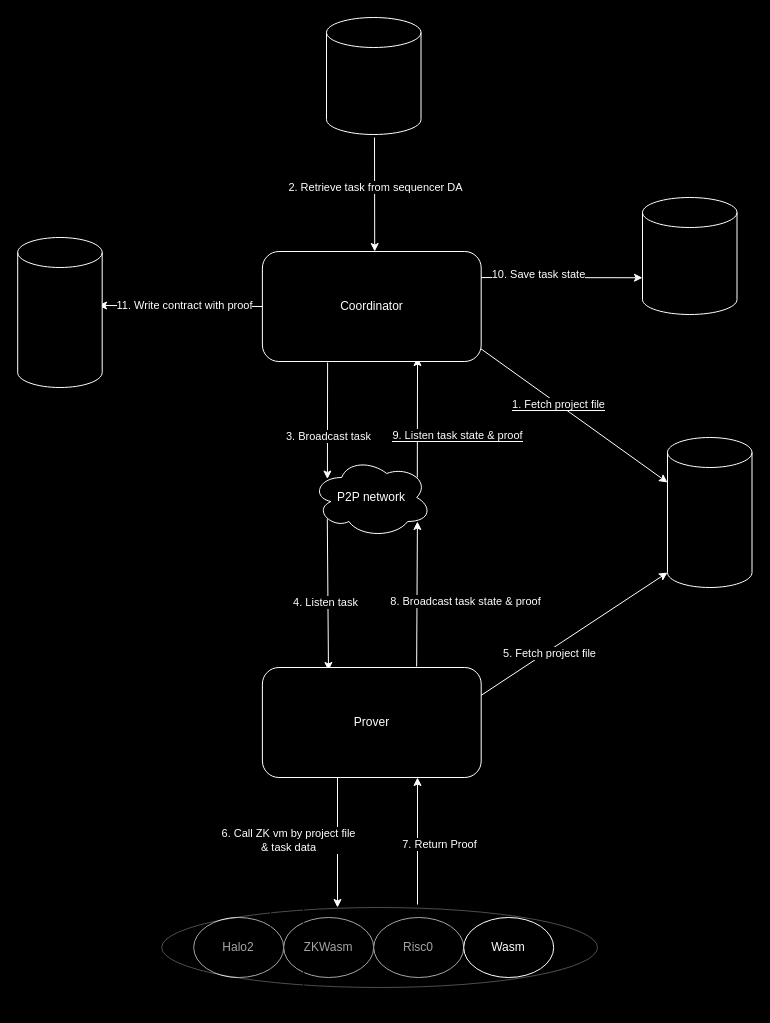
The diagram is 770 pixels wide and 1023 high, and some of its shapes have lost their labels. Here are the shapes that lost their labels. From the top down, the centre of each, then its label:
the point at 373,75: Sequencer's Data Availability
the point at 689,255: Coordinator's Data Availability
the point at 59,312: Project Contract
the point at 709,512: Project Registrar Contract & IPFS
